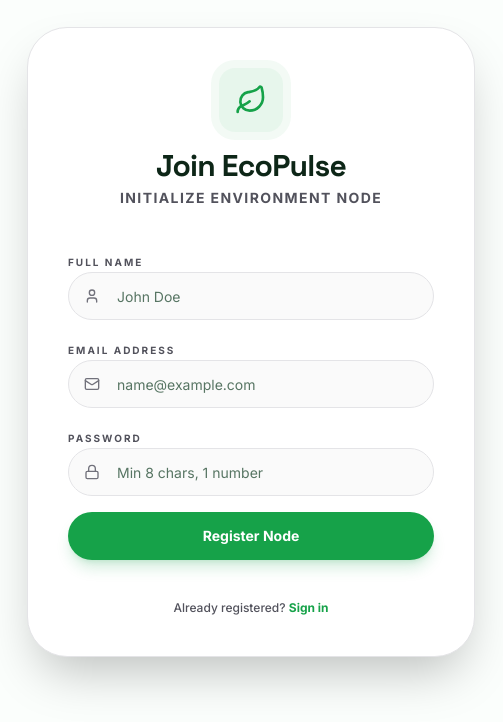
Test: RegisterPage › shows validation error for short name
In the field labelled "Full Name": (251, 296) [68, 272, 434, 320], type "A"
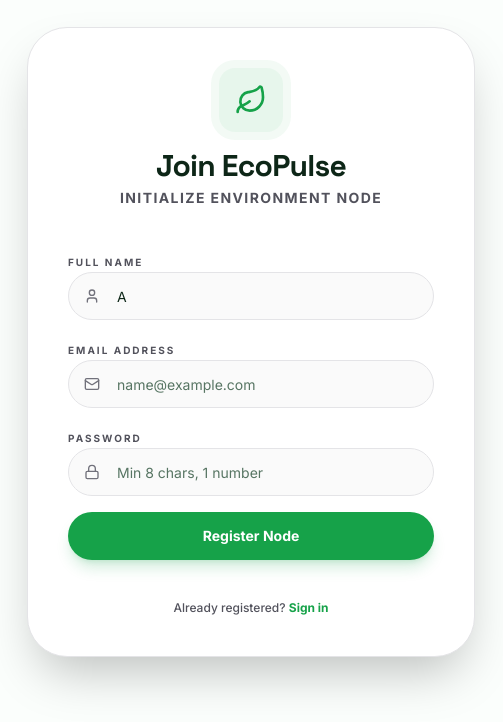
In the field labelled "Email Address": (251, 384) [68, 360, 434, 408], type "test@test.com"
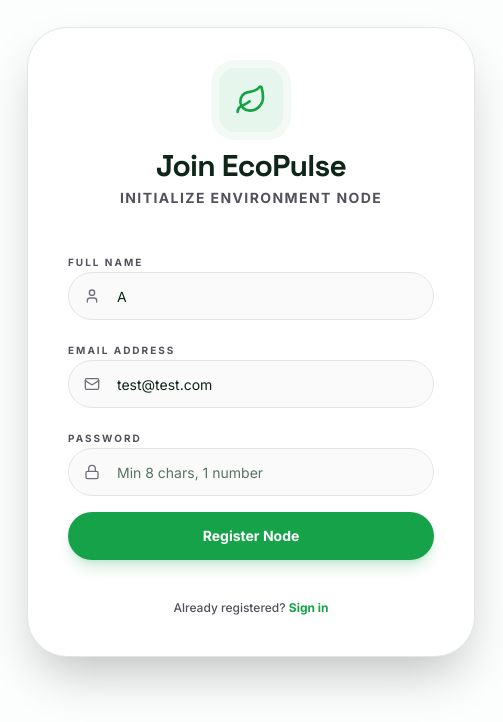
In the password field labelled "Password": (251, 472) [68, 448, 434, 496], type "Password1"
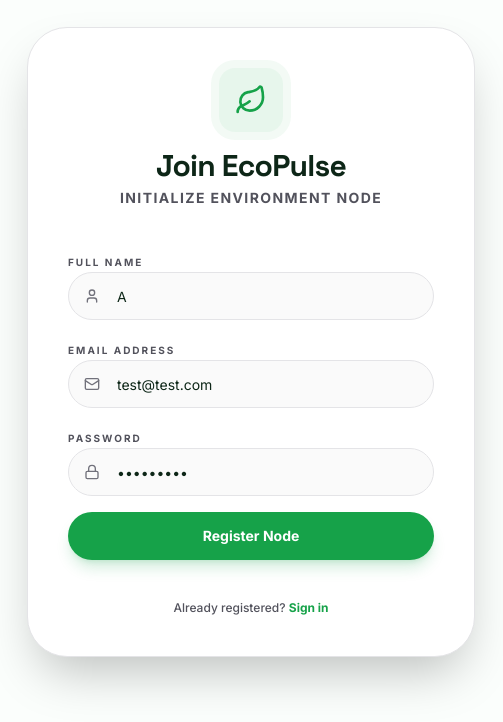
Click the button "Register Node": (251, 536) [68, 512, 434, 560]
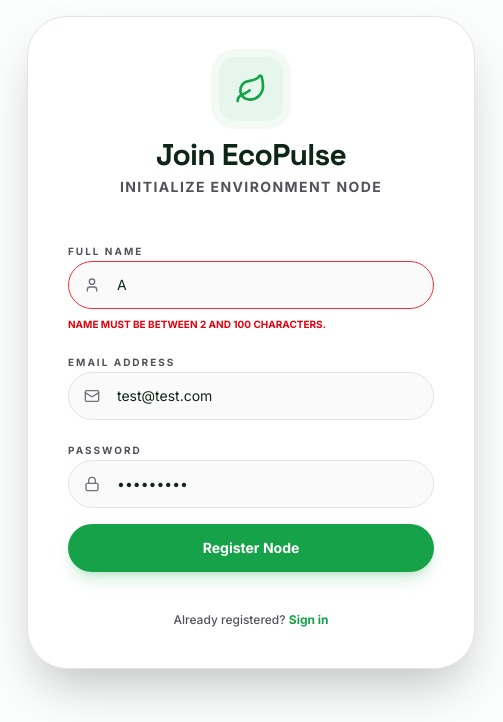
expect the text "Name must be between 2 and 100 characters." is shown: met, box [68, 318, 326, 330]
